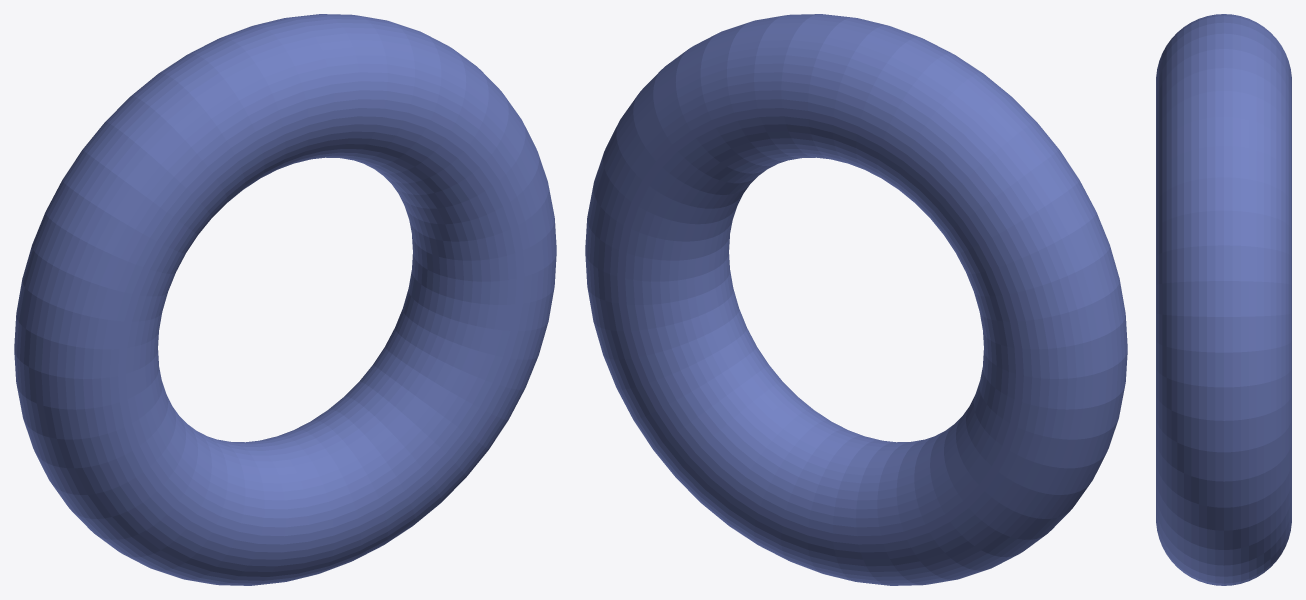
3 views of the same model, side by side, from view 1: azimuth 30°, elevation 25°; view 2: azimuth 150°, elevation 25°; view 3: azimuth 270°, elevation 25° (orthographic). The views are drawn at different scales.
Parts seen in each view (by area): view 1: world; view 2: world; view 3: world.
Part boxes in pixels (x1,y1,x2,y2): world: (14, 14, 556, 585); world: (585, 14, 1127, 585); world: (1156, 14, 1291, 585).
Bounding box in the file's own units: 14 × 13.97 × 3.33.
